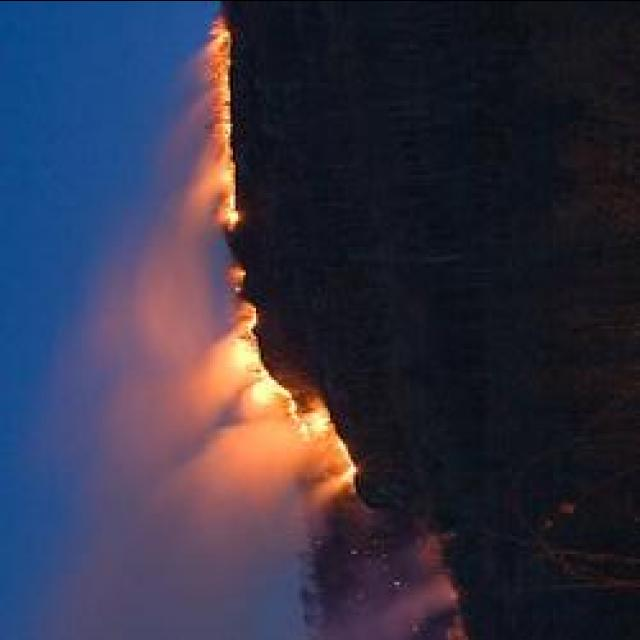fire: (227, 314, 264, 375)
smoke: (86, 354, 214, 476), (80, 252, 200, 378), (192, 420, 338, 521), (321, 588, 448, 640)
